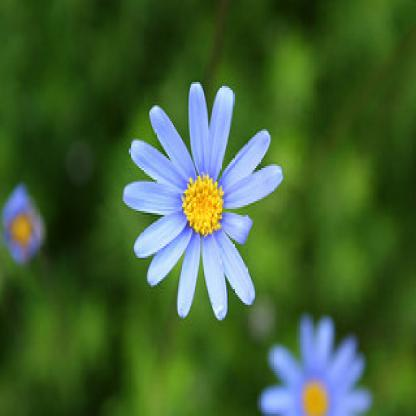ASTER: (107, 54, 294, 333), (257, 274, 387, 415), (1, 160, 52, 279)
